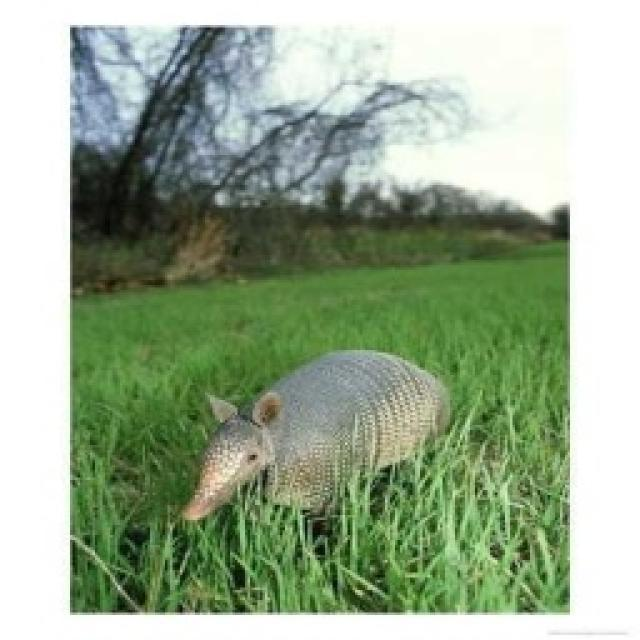not_pig: (178, 348, 450, 530)
